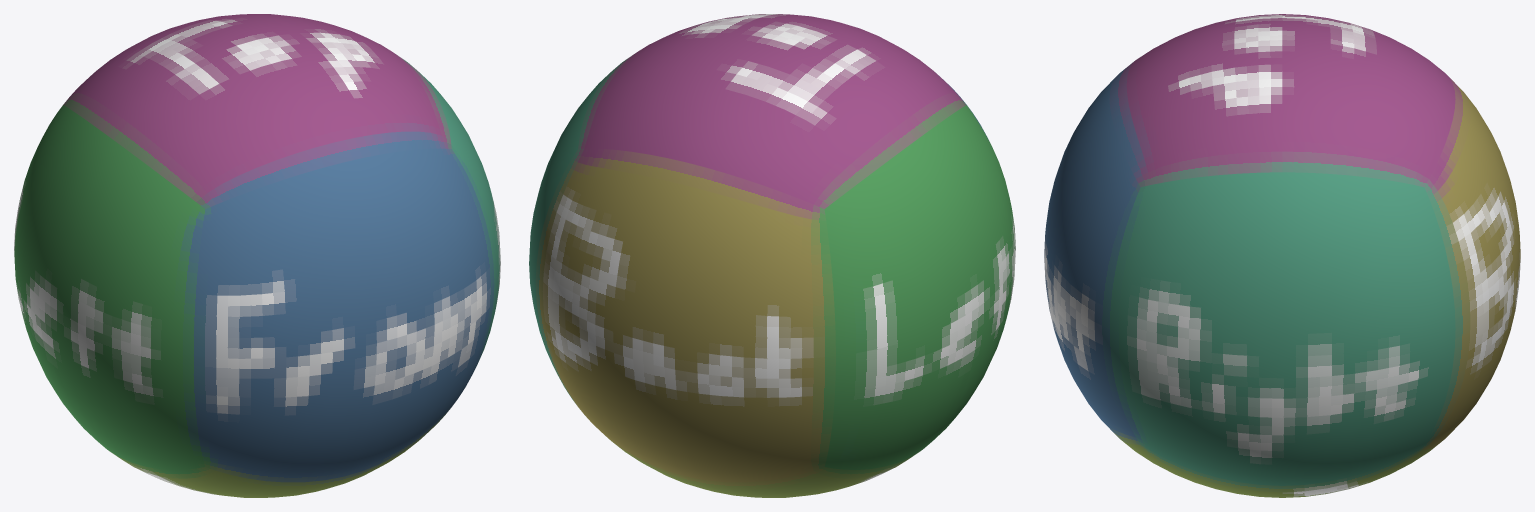
Rendered from testbox.glb.
The picture shows the model from 3 angles, left to right: view 1: azimuth 30°, elevation 25°; view 2: azimuth 150°, elevation 25°; view 3: azimuth 270°, elevation 25°; orthographic projection.
Parts seen in each view (by area): view 1: Cube; view 2: Cube; view 3: Cube.
Boxes of the visible parts, left/top/right/bottom form: Cube: left=14, top=14, right=500, bottom=497; Cube: left=529, top=14, right=1015, bottom=497; Cube: left=1044, top=14, right=1520, bottom=497.
Bounding box in the file's own units: 1.68 × 1.68 × 1.68.
Materials: 1 (1 with a texture image).
